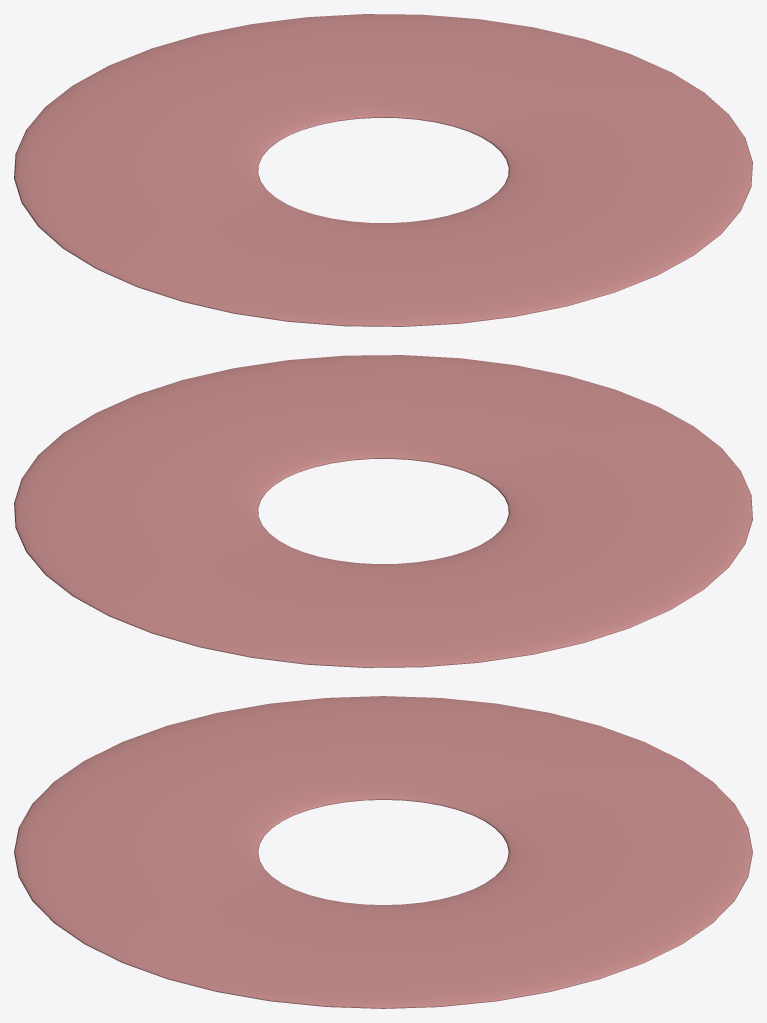
Rendered from ball.fbx.
3 views of the same model, one above another, from view 1: azimuth 30°, elevation 25°; view 2: azimuth 150°, elevation 25°; view 3: azimuth 270°, elevation 25° (orthographic).
Visible parts, largest first — view 1: pTorus1; view 2: pTorus1; view 3: pTorus1.
Boxes of the visible parts, x1,y1,x2,y2 form: pTorus1: (14, 14, 752, 326); pTorus1: (14, 355, 752, 667); pTorus1: (14, 696, 752, 1008).
Bounding box in the file's own units: 0.0614 × 0.00109 × 0.0614.
